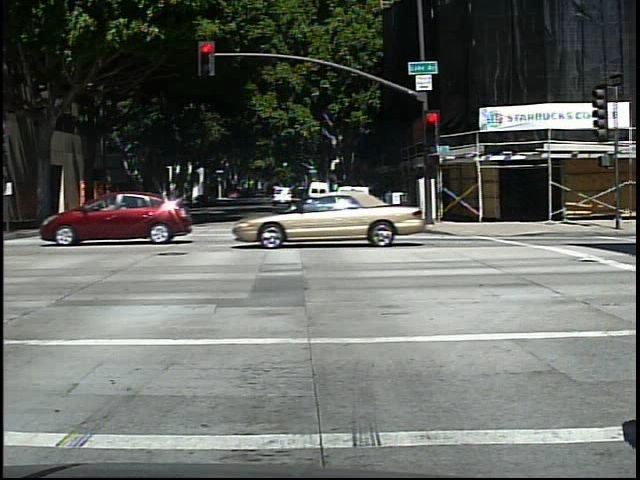person: (88, 184, 119, 237)
